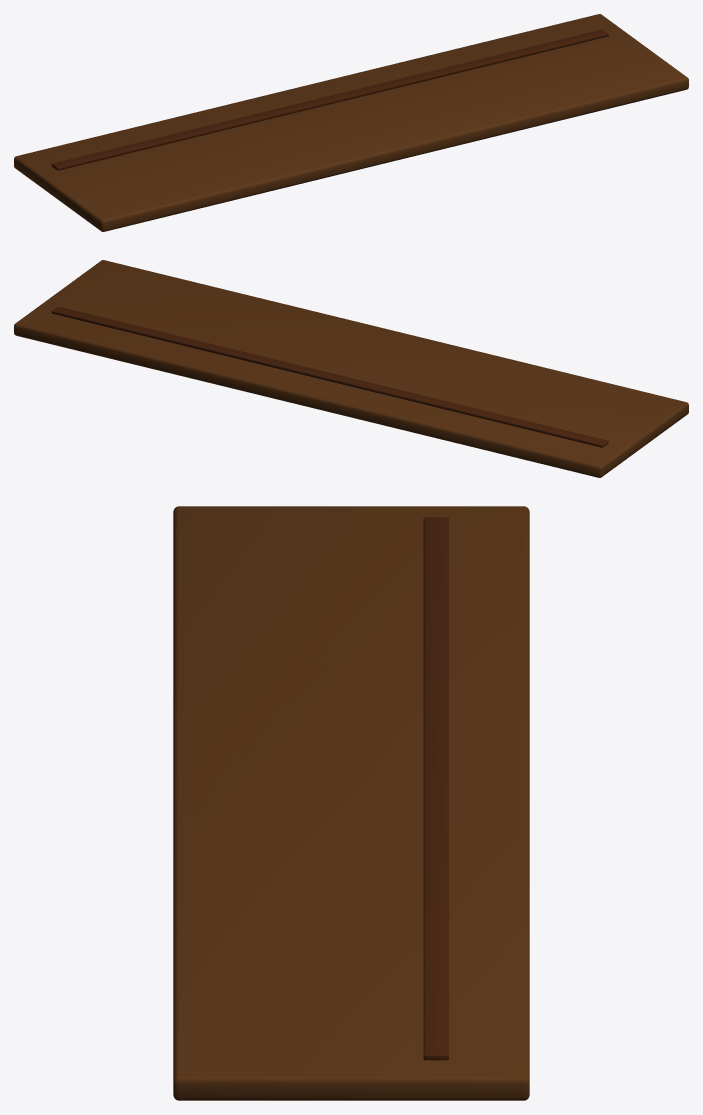
File: thin-wooden-board.obj
3 views of the same model, one above another, from view 1: azimuth 30°, elevation 25°; view 2: azimuth 150°, elevation 25°; view 3: azimuth 270°, elevation 25° (orthographic). The views are drawn at different scales.
Visible parts, largest first — view 1: thin-wooden-board; view 2: thin-wooden-board; view 3: thin-wooden-board.
Part boxes in pixels (<box>): thin-wooden-board: <box>14,14,688,231</box>; thin-wooden-board: <box>14,260,688,477</box>; thin-wooden-board: <box>173,506,529,1100</box>.
Size of the model in its own units: 1.6 by 0.039 by 0.42.
